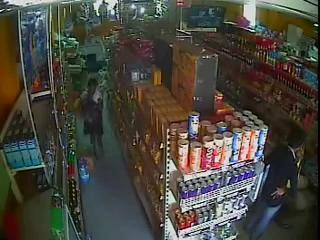Normal: (242, 118, 302, 240), (80, 78, 105, 160)
